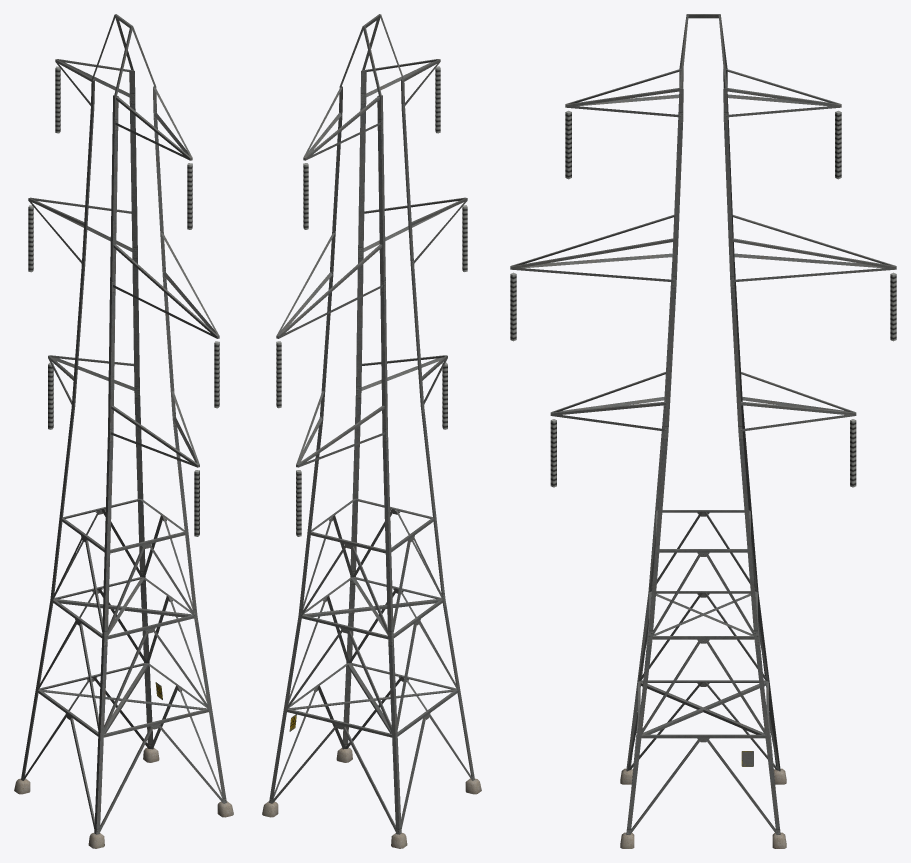
The model's file is object_83_lev2.glb.
3 views of the same model, side by side, from view 1: azimuth 30°, elevation 25°; view 2: azimuth 150°, elevation 25°; view 3: azimuth 270°, elevation 25° (orthographic). The views are drawn at different scales.
Parts seen in each view (by area): view 1: object_83_lev2; view 2: object_83_lev2; view 3: object_83_lev2.
Boxes of the visible parts, x1,y1,x2,y2 form: object_83_lev2: (14,14,233,848); object_83_lev2: (262,14,481,848); object_83_lev2: (510,14,896,848).
Bounding box in the file's own units: 0.7641 × 4.05 × 1.77.
Materials: 1 (1 with a texture image).
